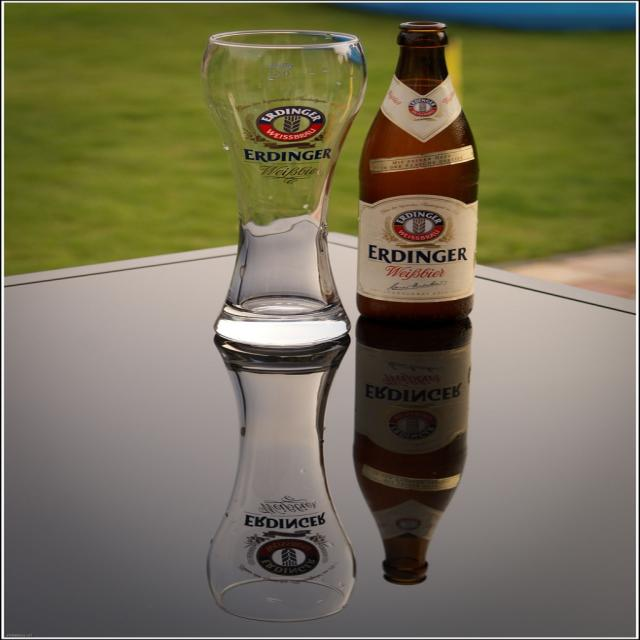erdinger: (233, 94, 353, 163), (365, 201, 475, 267), (407, 98, 445, 125)
